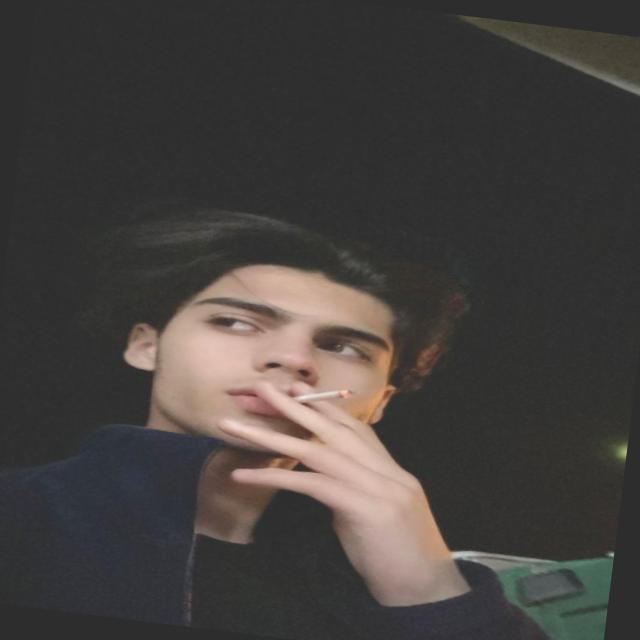smoke: (272, 372, 364, 416)
